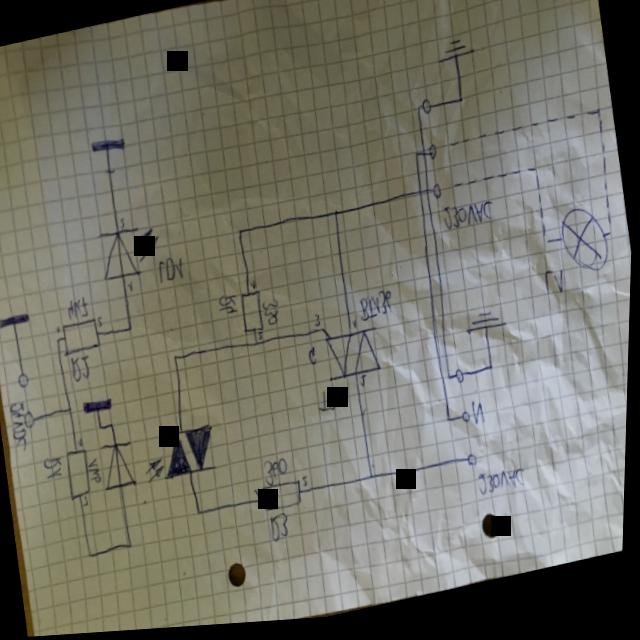crossover: (422, 157, 429, 166), (425, 193, 431, 202), (418, 194, 424, 203)
diode: (97, 223, 168, 288)
ground: (433, 40, 480, 75), (464, 313, 512, 345), (90, 135, 129, 160), (83, 396, 117, 420), (0, 311, 35, 333)
junction: (542, 239, 553, 255), (532, 174, 542, 187), (609, 230, 616, 246), (595, 115, 603, 126), (68, 407, 76, 417), (490, 370, 497, 381), (333, 214, 341, 223), (458, 103, 466, 112), (130, 544, 138, 553), (255, 343, 262, 353), (99, 425, 106, 435), (448, 422, 455, 431), (129, 328, 136, 336), (198, 512, 204, 521), (448, 381, 455, 388), (238, 232, 245, 239), (371, 479, 378, 486), (110, 425, 117, 432), (415, 157, 421, 165), (90, 554, 96, 562), (174, 358, 180, 365), (57, 339, 63, 346), (417, 110, 423, 117)
resistor: (61, 318, 104, 360), (66, 448, 97, 505), (263, 483, 308, 518), (240, 293, 269, 340)
terminal: (25, 410, 40, 433), (18, 372, 33, 393), (468, 458, 482, 477), (462, 417, 474, 432)
text: (441, 202, 500, 241), (479, 470, 532, 507), (7, 400, 34, 458), (358, 294, 398, 330), (157, 257, 187, 289), (317, 390, 349, 420), (70, 354, 97, 387), (270, 515, 296, 549), (265, 461, 293, 492), (544, 275, 569, 306), (44, 455, 69, 484), (67, 296, 92, 324), (218, 294, 242, 323), (262, 302, 284, 333), (89, 459, 106, 490), (472, 405, 489, 436), (307, 349, 321, 373), (360, 380, 373, 394), (314, 318, 324, 334), (127, 281, 137, 297), (119, 217, 129, 233), (303, 478, 313, 494), (78, 437, 88, 451), (84, 496, 94, 510), (255, 491, 265, 504), (352, 323, 361, 337), (55, 323, 64, 337), (98, 316, 106, 331), (251, 283, 259, 296), (259, 335, 267, 346)
